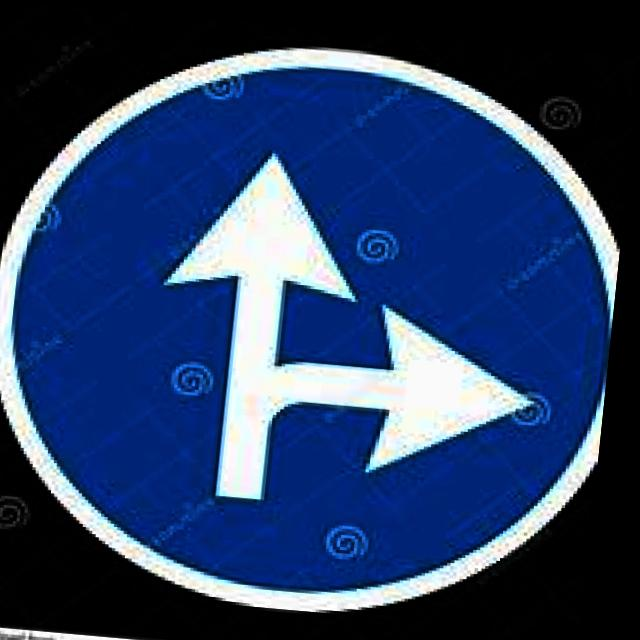COMPULSARY_AHEAD_OR_TURN_RIGHT: (0, 14, 639, 621)
